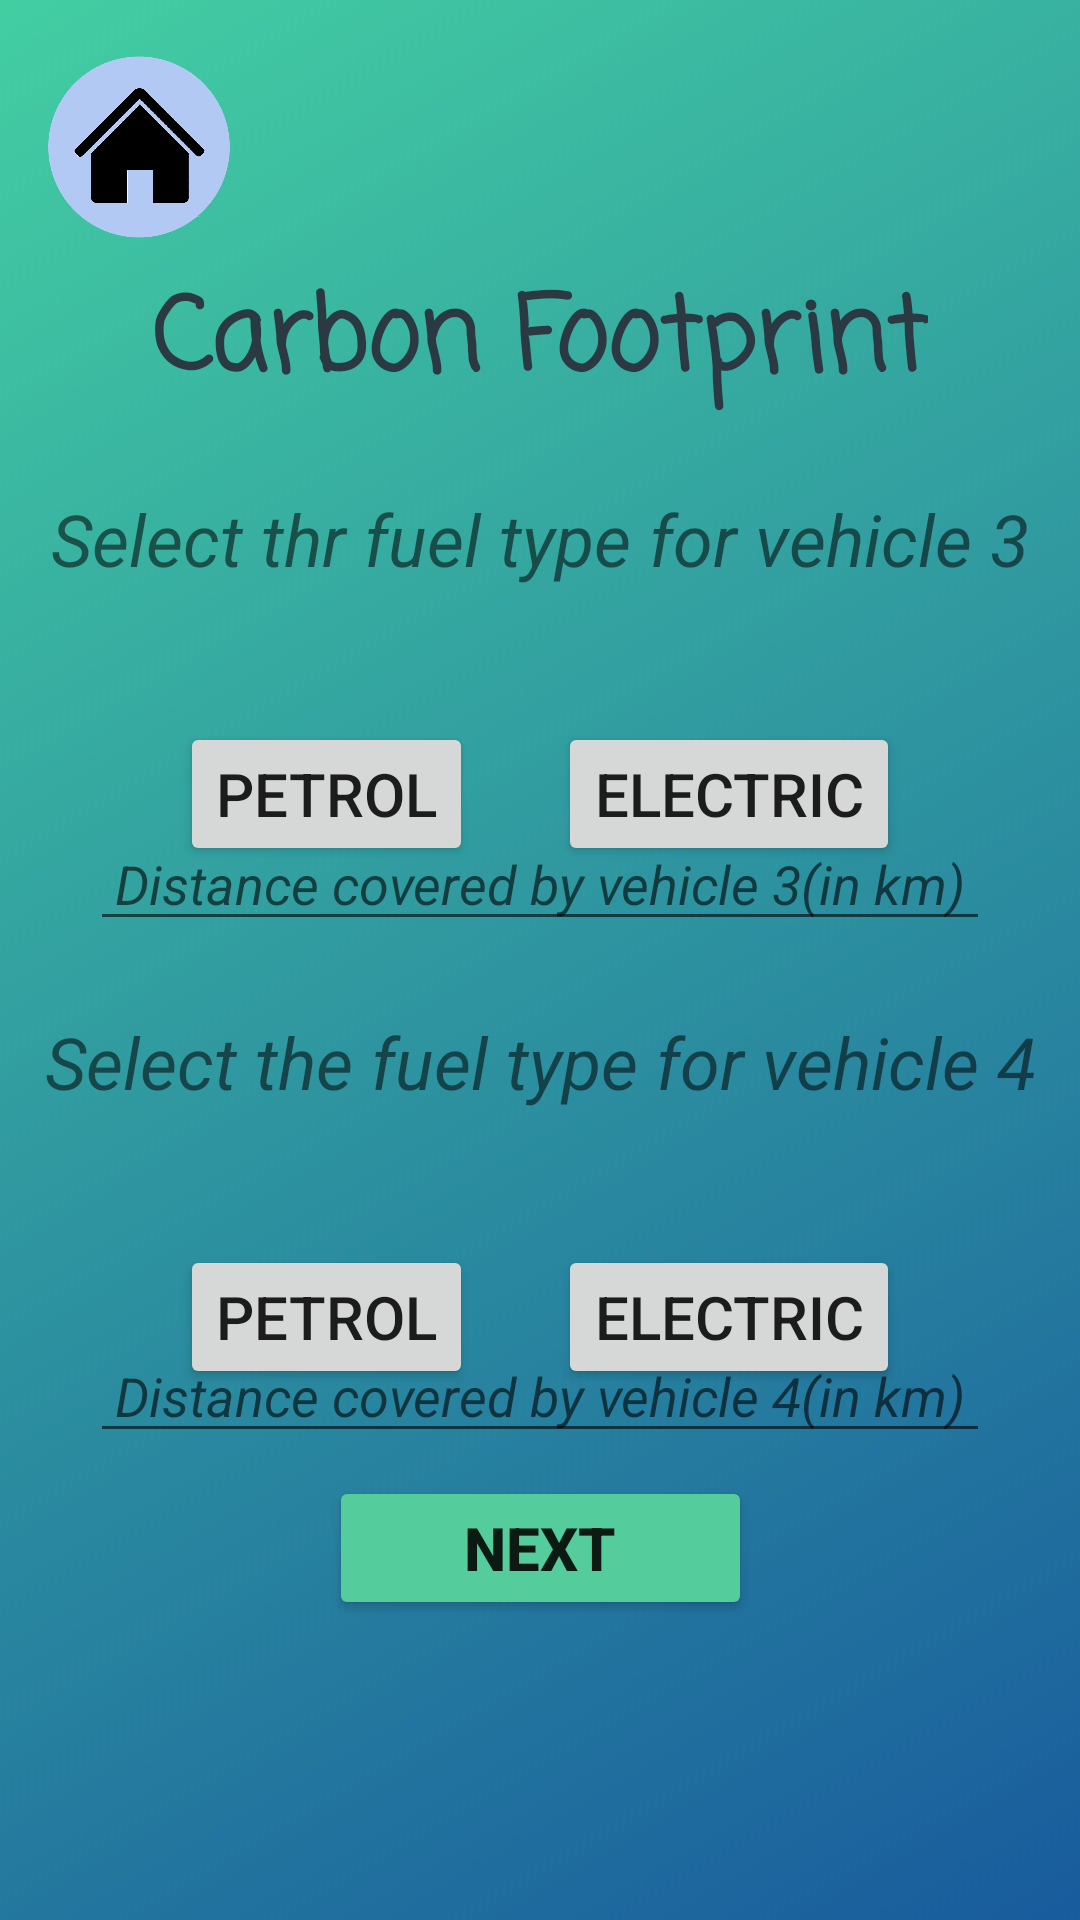

Icons on this 1080px x 1920px Android screen, each with the point to tap as (x=x, y=y):
home: (x=139, y=147)
